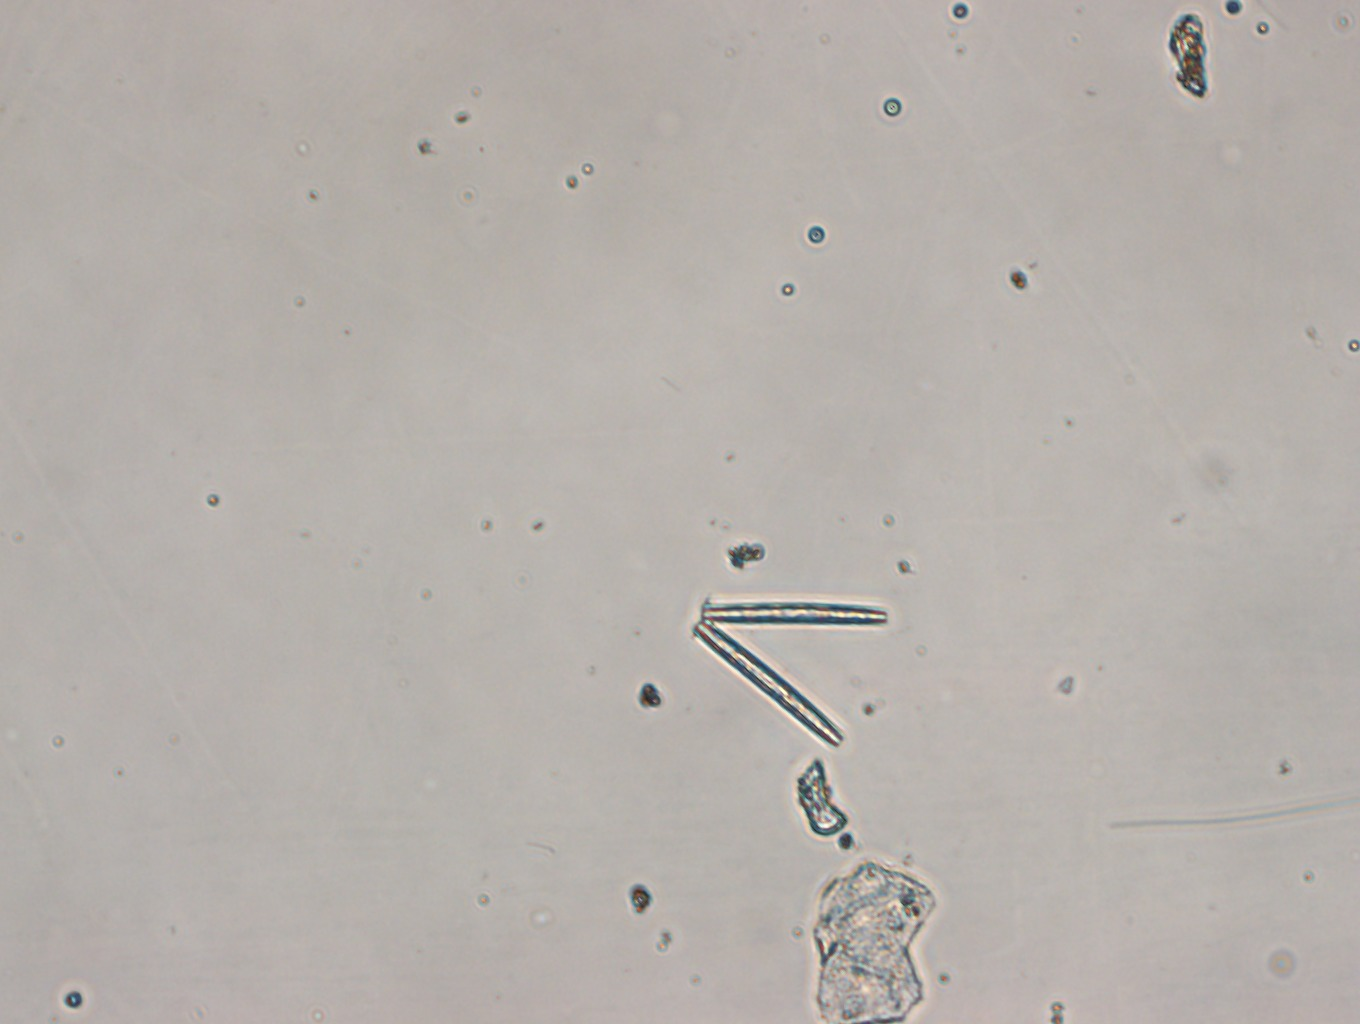thalassionema frauenfeldii: (677, 588, 900, 754)
